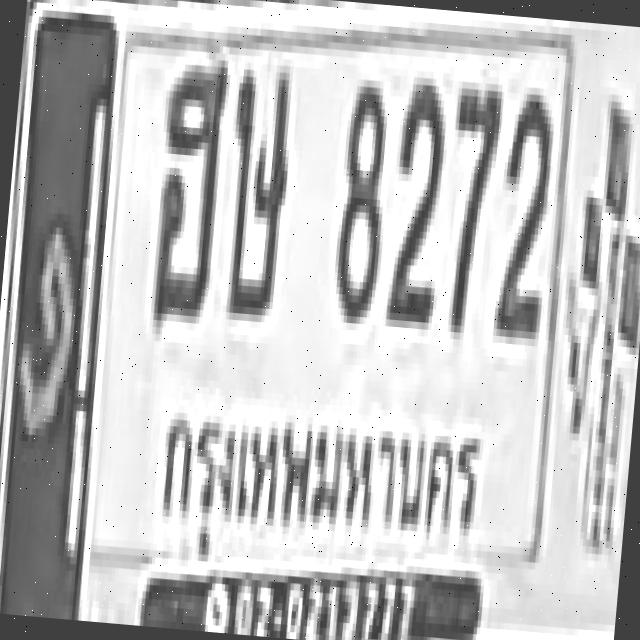2: (382, 76, 450, 323), (489, 89, 556, 336)
48SorRueSi: (216, 62, 293, 316)
53HorNokHook: (146, 52, 228, 321)
7: (434, 80, 501, 328)
8: (327, 71, 391, 318)
Bangkok: (144, 388, 491, 581)
